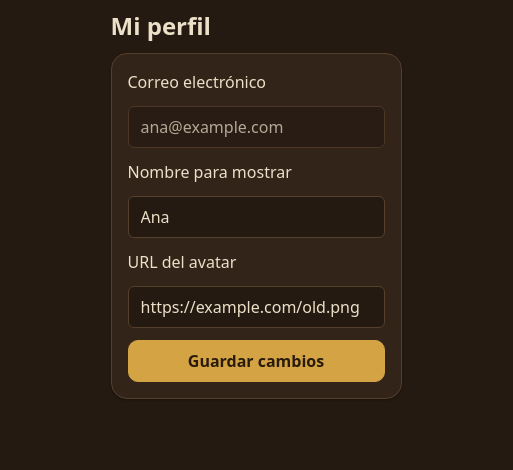
Scenario: ProfilePage › shows an honest message when there is no backend, keeping the session
The image size is (513, 470).
Replace the text in the field labelled "Nombre para mostrar" with "Ana G.": (256, 217) [128,196,384,238]
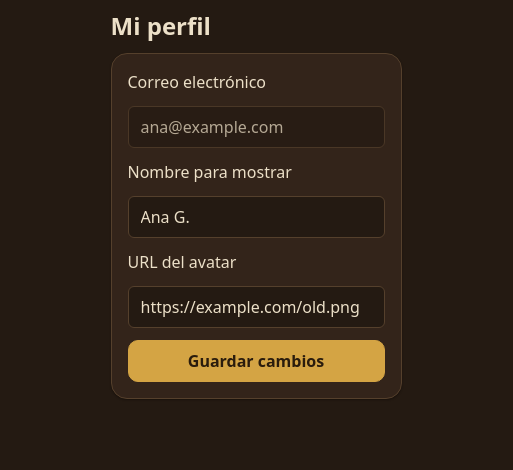
Clear the field labelled "URL del avatar": (256, 307) [128,286,384,328]
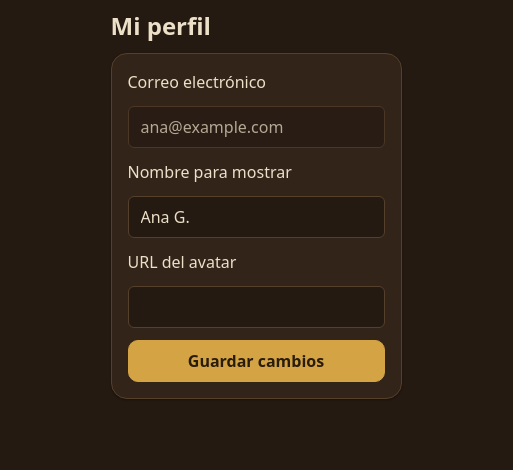
Click the button "Guardar cambios": click(256, 361) [128,340,384,382]
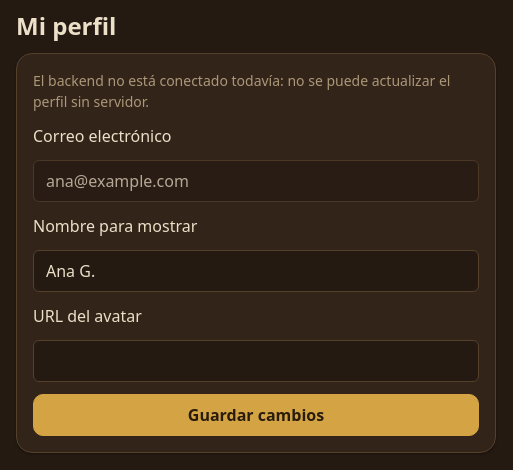
Result: the message shows "no está conectado" at [33,71,450,111]
